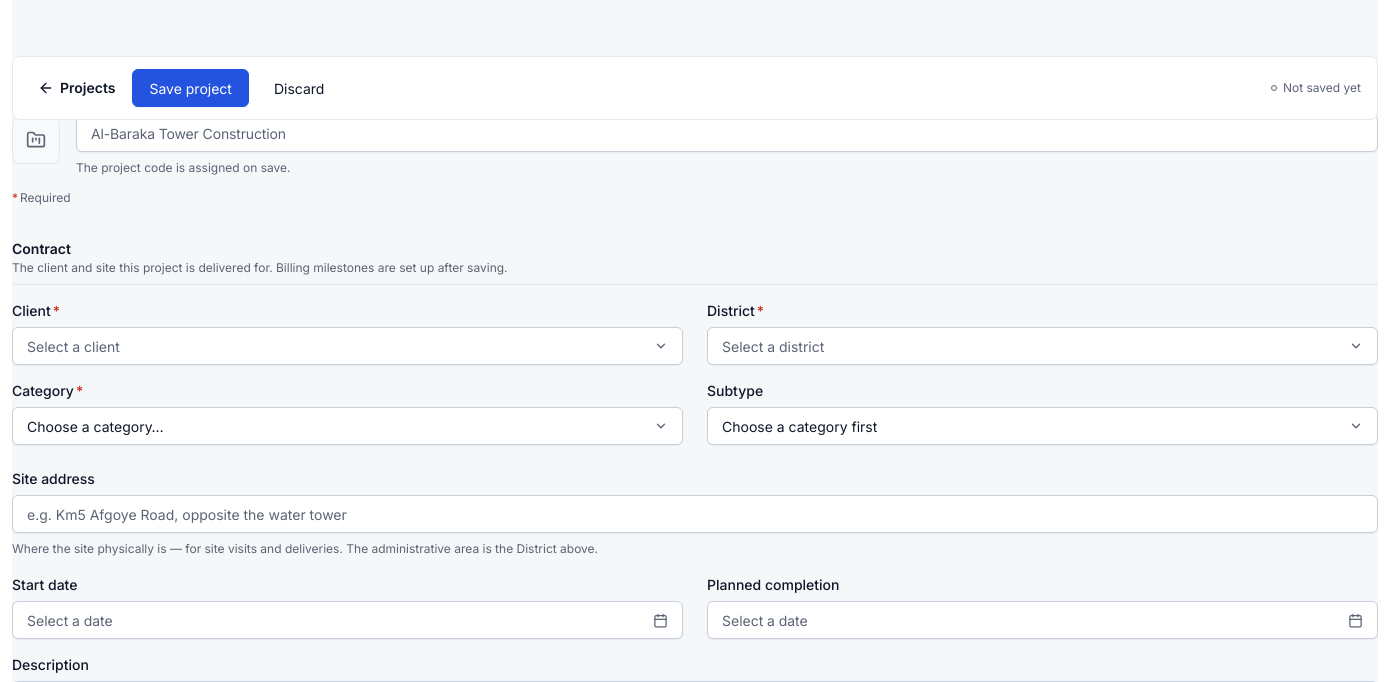
Test case: ProjectForm — validation › offers clients in a searchable picker and hides "New client" without create:client
Click the dropdown labelled "Select a client": (73, 346) [12,327,683,365]
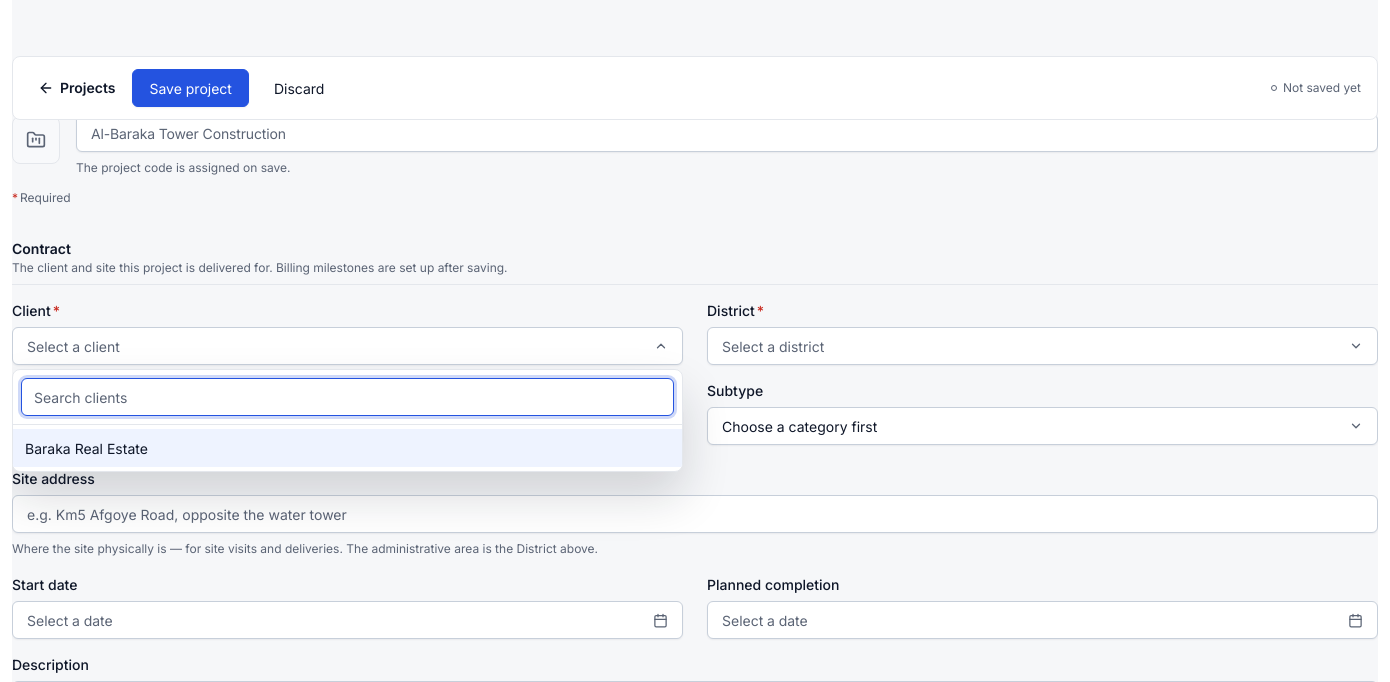
Now the option "Baraka Real Estate" is shown, box [13,429,682,467]
